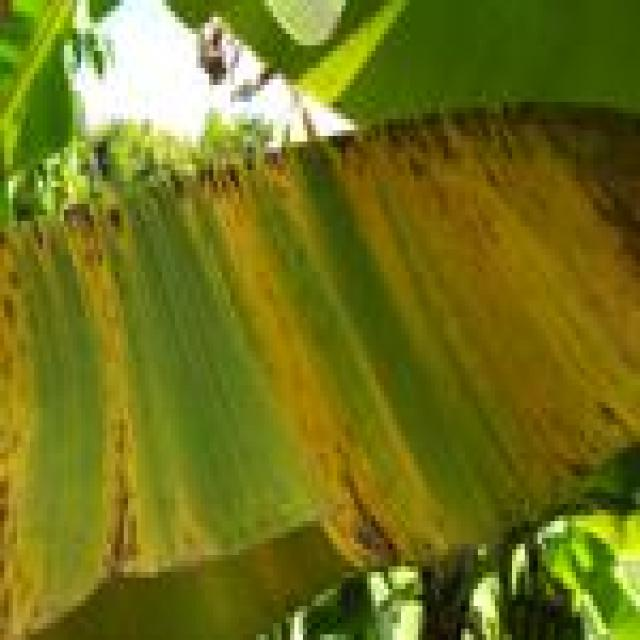Early_rust: (0, 98, 640, 608)
